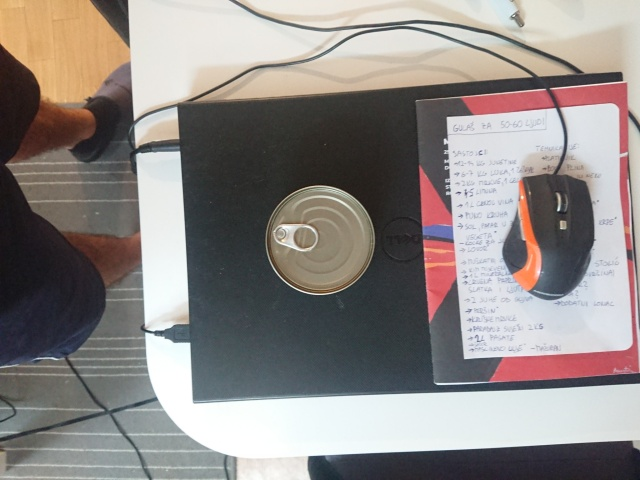Giana Tuna Salad Mexico 185g: (263, 182, 379, 299)
